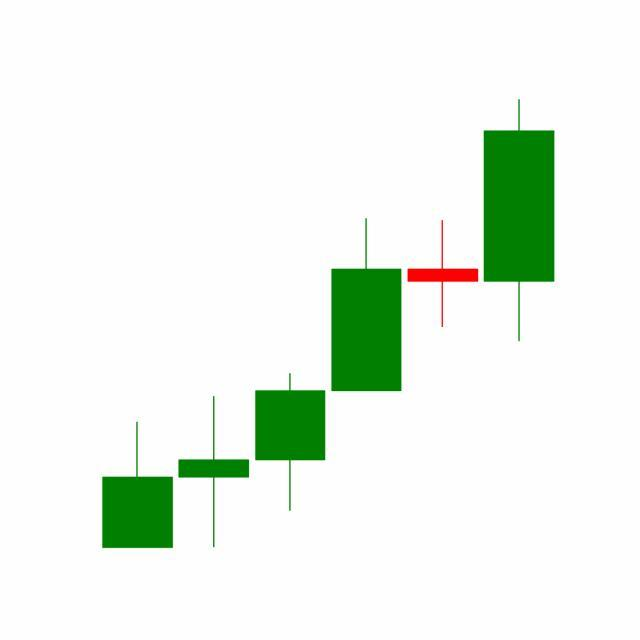Spinning Top: (404, 219, 482, 329)
